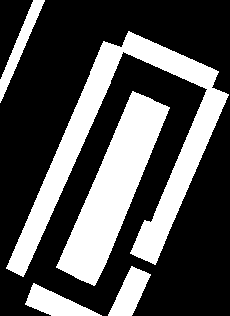parkingspot: (6, 73, 110, 276), (56, 91, 152, 276), (130, 86, 228, 264), (75, 100, 169, 285), (120, 31, 218, 90), (0, 0, 44, 102), (25, 283, 103, 316), (108, 266, 150, 316), (90, 41, 124, 81)
